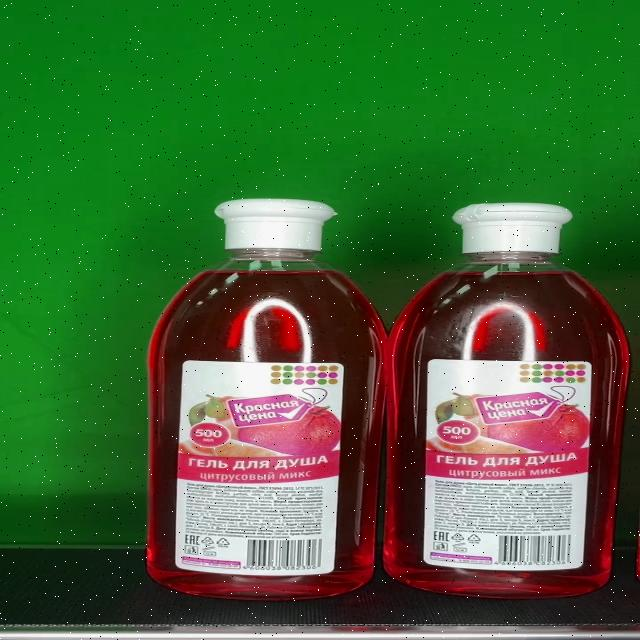Bottle: (384, 203, 632, 598), (146, 198, 388, 602)
Cap: (452, 202, 572, 254), (214, 198, 335, 248)
